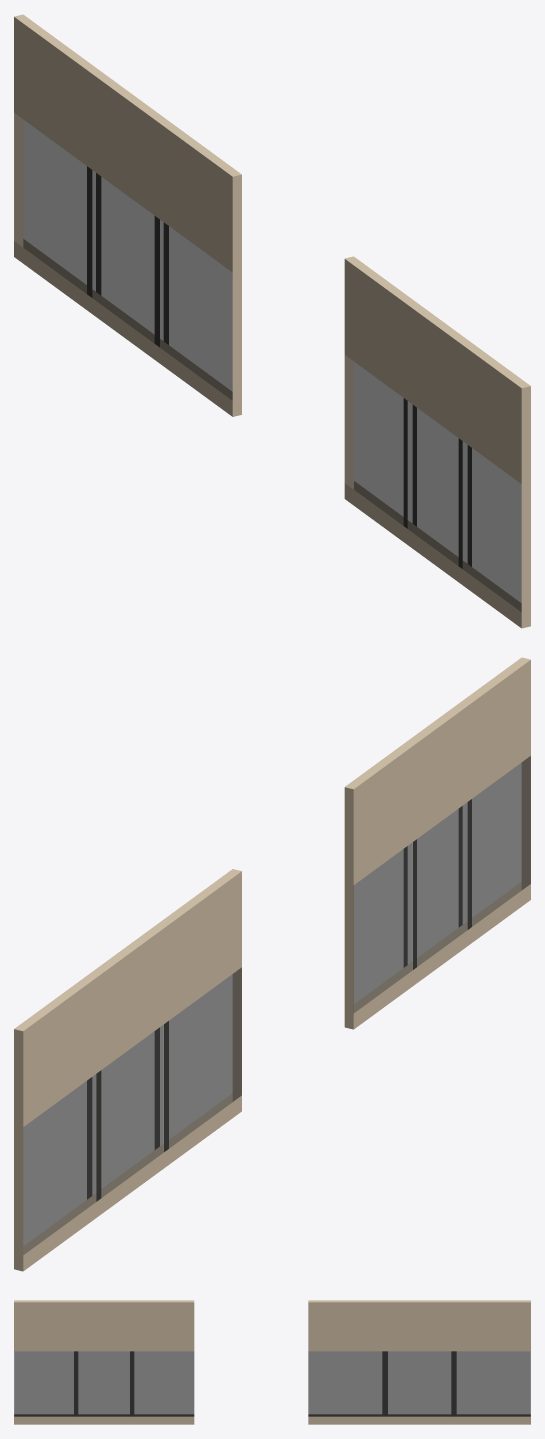
The model's file is Entrance_wall.fbx.
3 renders of one model, top to bottom at view 1: azimuth 30°, elevation 25°; view 2: azimuth 150°, elevation 25°; view 3: azimuth 270°, elevation 25°, orthographic. The views are drawn at different scales.
Parts seen in each view (by area): view 1: Cube.014, Cube.030; view 2: Cube.014, Cube.030; view 3: Cube.014, Cube.030.
Boxes of the visible parts, x1,y1,x2,y2 form: Cube.014: (14,14,241,416); Cube.030: (344,256,530,628); Cube.014: (14,869,241,1271); Cube.030: (344,657,530,1029); Cube.014: (308,1300,530,1424); Cube.030: (14,1300,194,1424).
Bounding box in the file's own units: 21.56 × 536 × 2052.
